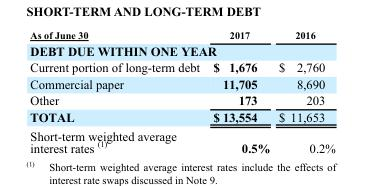table: (29, 29, 334, 154)
table column: (29, 29, 205, 154), (205, 29, 273, 154), (273, 29, 334, 154)
table column header: (29, 29, 334, 41)
table projected row header: (29, 41, 334, 58)
table row: (29, 125, 334, 154), (29, 41, 334, 58), (29, 58, 334, 75), (29, 91, 334, 108), (29, 108, 334, 125), (29, 75, 334, 91), (29, 29, 334, 41)
